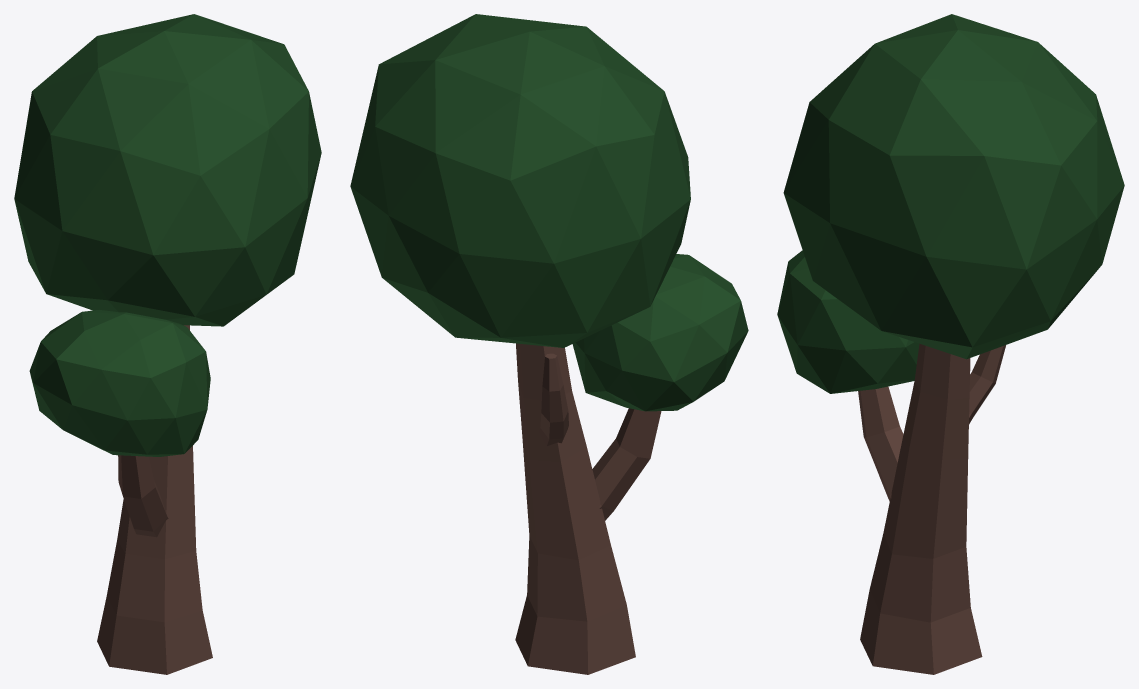
File: Tree(2).fbx
3 renders of one model, left to right at view 1: azimuth 30°, elevation 25°; view 2: azimuth 150°, elevation 25°; view 3: azimuth 270°, elevation 25°, orthographic. The views are drawn at different scales.
Visible parts, largest first — view 1: Tree(2); view 2: Tree(2); view 3: Tree(2).
Boxes of the visible parts, box(x1,y1,x2,y2) form: Tree(2): box(14, 14, 321, 674); Tree(2): box(350, 14, 748, 674); Tree(2): box(777, 14, 1124, 674).
Size of the model in its own units: 3.52 by 6.65 by 3.31.
